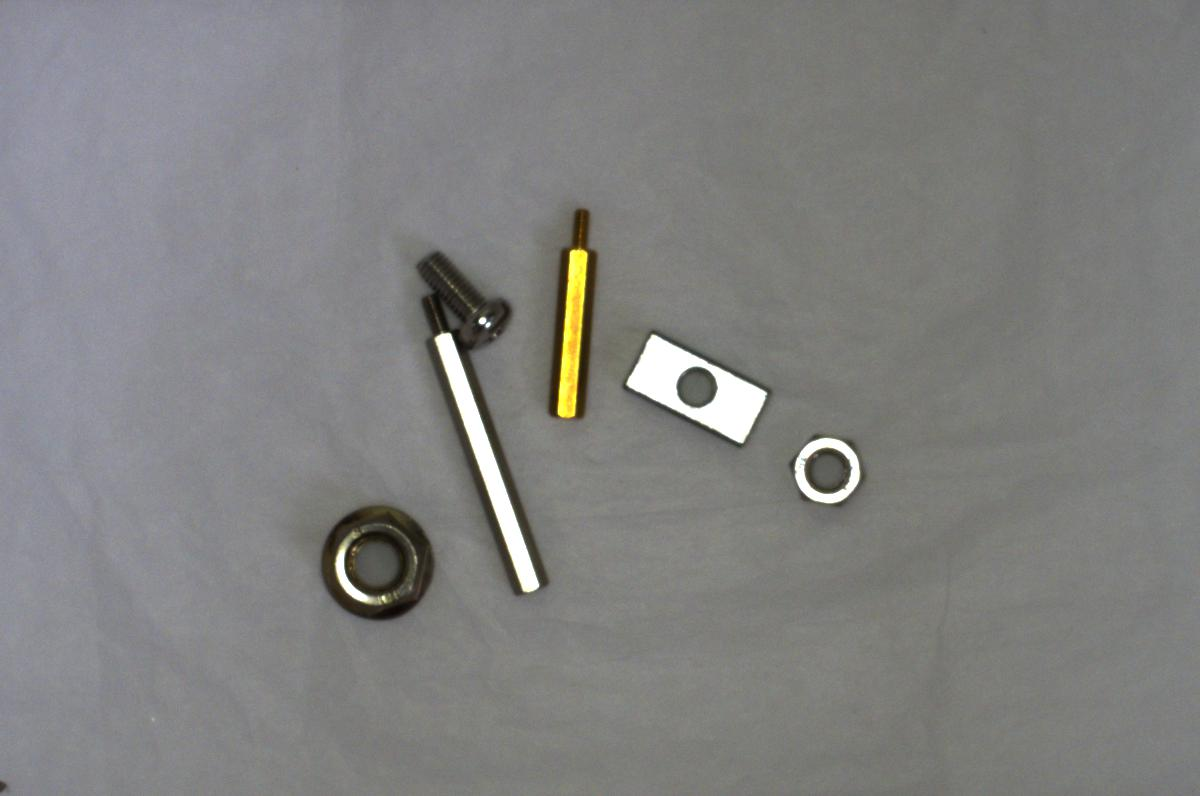Flange nut: (312, 499, 445, 626)
Hexagon nut: (781, 426, 871, 508)
Hexagon pillar: (544, 207, 594, 421)
Hexagonal steel column: (415, 288, 553, 596)
Rectangular nut: (618, 325, 770, 446)
Round head screw: (419, 246, 522, 347)
